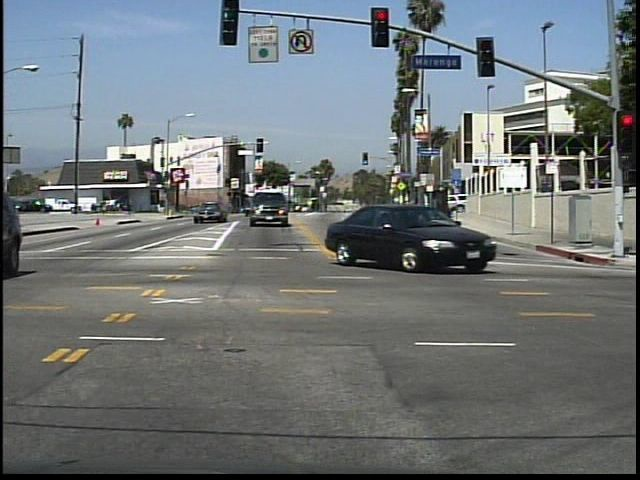person: (126, 195, 137, 219)
